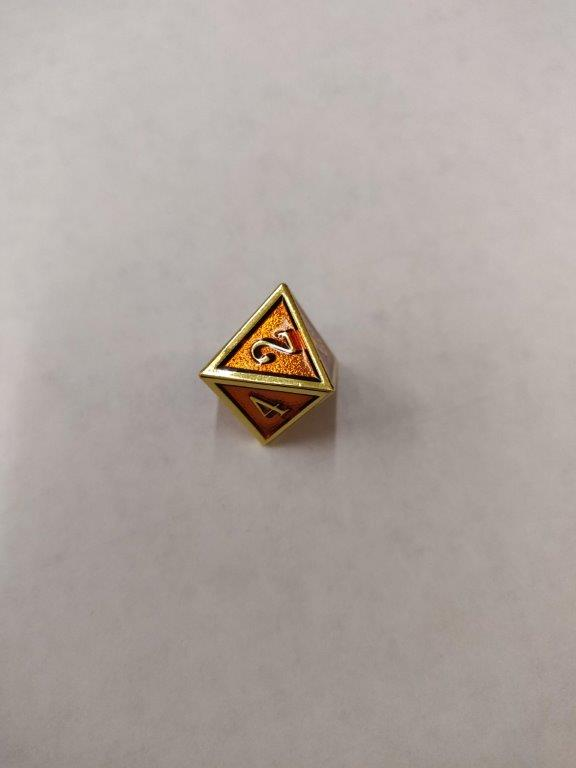d8-2: (196, 281, 340, 446)
